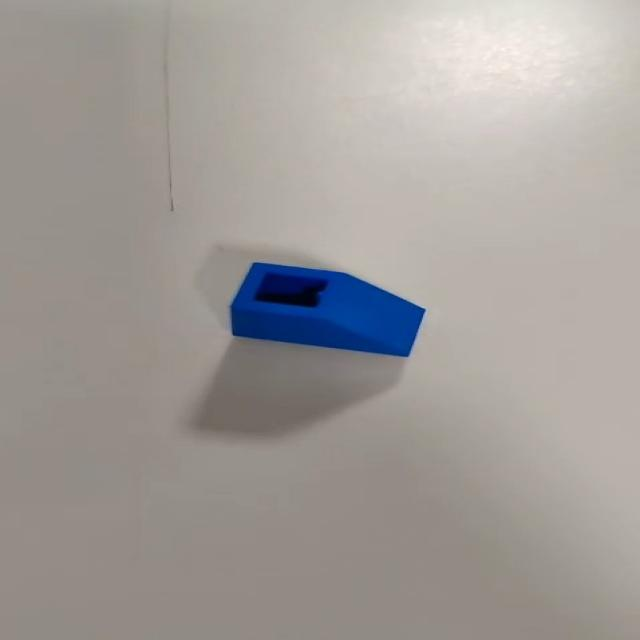X1x2x1: (228, 262, 426, 356)
